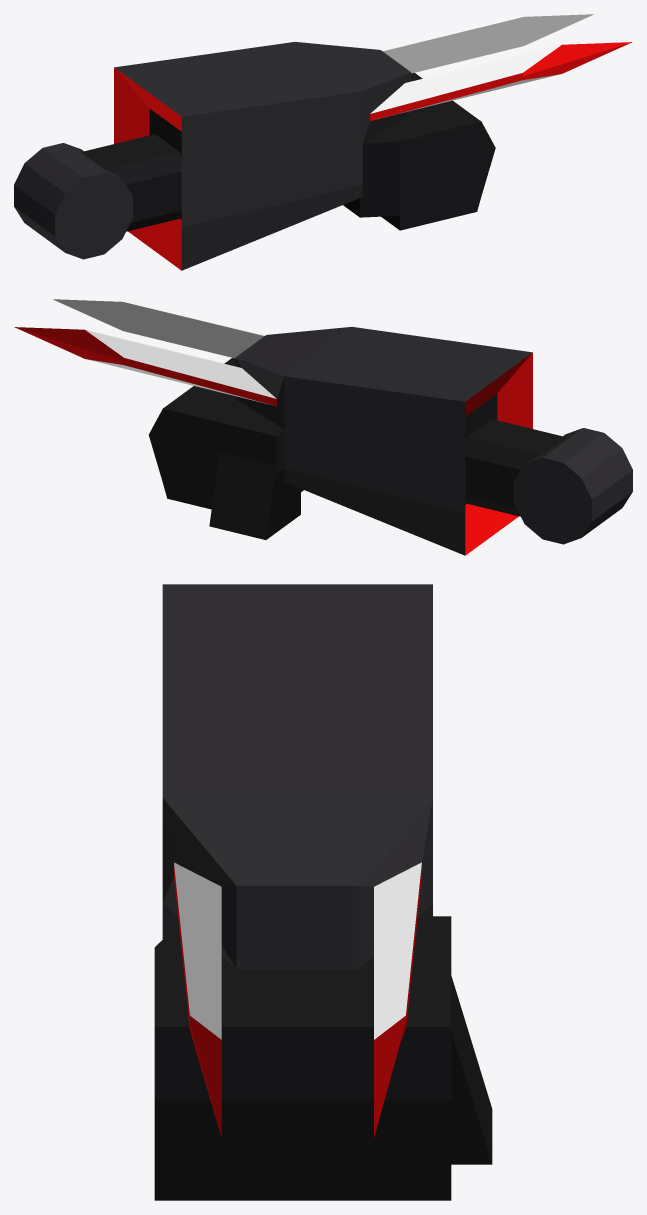
The model's file is VampRightArm.obj.
3 views of the same model, one above another, from view 1: azimuth 30°, elevation 25°; view 2: azimuth 150°, elevation 25°; view 3: azimuth 270°, elevation 25° (orthographic). The views are drawn at different scales.
Visible parts, largest first — view 1: Forearm, cuboid, cylinder, Arm; view 2: Forearm, cuboid, cylinder, Arm; view 3: Forearm, cuboid.
Boxes of the visible parts, left/top/right/bottom form: Forearm: left=114, top=14, right=632, bottom=270; cuboid: left=343, top=73, right=495, bottom=230; cylinder: left=14, top=143, right=132, bottom=259; Arm: left=81, top=134, right=181, bottom=231; Forearm: left=14, top=299, right=532, bottom=555; cuboid: left=148, top=358, right=303, bottom=539; cylinder: left=514, top=428, right=632, bottom=544; Arm: left=465, top=419, right=565, bottom=516; Forearm: left=162, top=584, right=432, bottom=1137; cuboid: left=154, top=916, right=492, bottom=1200.
Bounding box in the file's own units: 1.02 × 0.2906 × 0.2578.
Materials: 1 (1 with a texture image).
